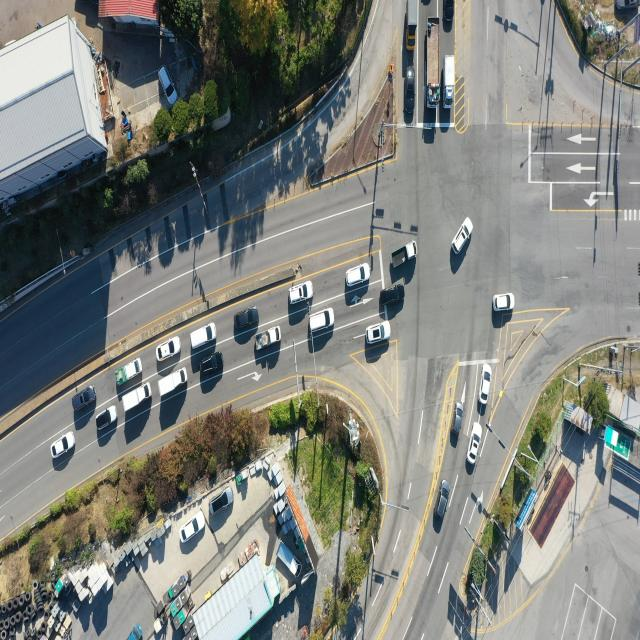car: (432, 479, 450, 532), (208, 484, 234, 520), (181, 512, 207, 544), (452, 218, 471, 254), (159, 65, 177, 103), (310, 311, 337, 336), (466, 422, 481, 466), (74, 386, 98, 412), (345, 265, 369, 290), (54, 431, 76, 458), (449, 403, 462, 448), (288, 281, 312, 305), (380, 284, 406, 306), (200, 352, 224, 375), (365, 322, 390, 344), (157, 338, 180, 361), (236, 307, 260, 329), (96, 408, 117, 432), (481, 363, 493, 405), (407, 65, 417, 115), (492, 292, 514, 310), (445, 0, 455, 32), (612, 0, 638, 12), (422, 0, 431, 7)
medium_truck: (425, 21, 440, 110)
small_truck: (121, 382, 151, 414), (157, 365, 186, 396), (278, 542, 302, 578), (255, 326, 282, 354), (189, 324, 215, 352), (391, 242, 416, 269), (444, 55, 456, 109), (117, 357, 141, 384), (405, 0, 417, 51), (126, 623, 144, 640)
